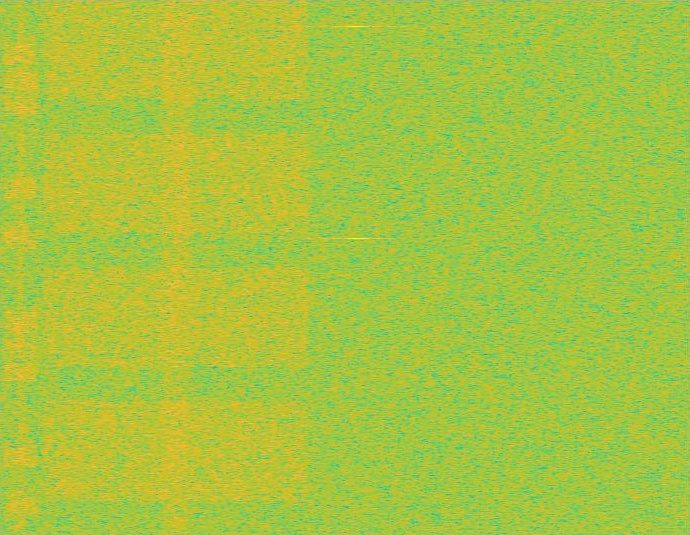5G: (38, 0, 314, 534)
DSSS: (157, 0, 195, 534), (17, 0, 25, 534)
LTE: (4, 0, 38, 534)
Radar: (350, 0, 364, 534)
